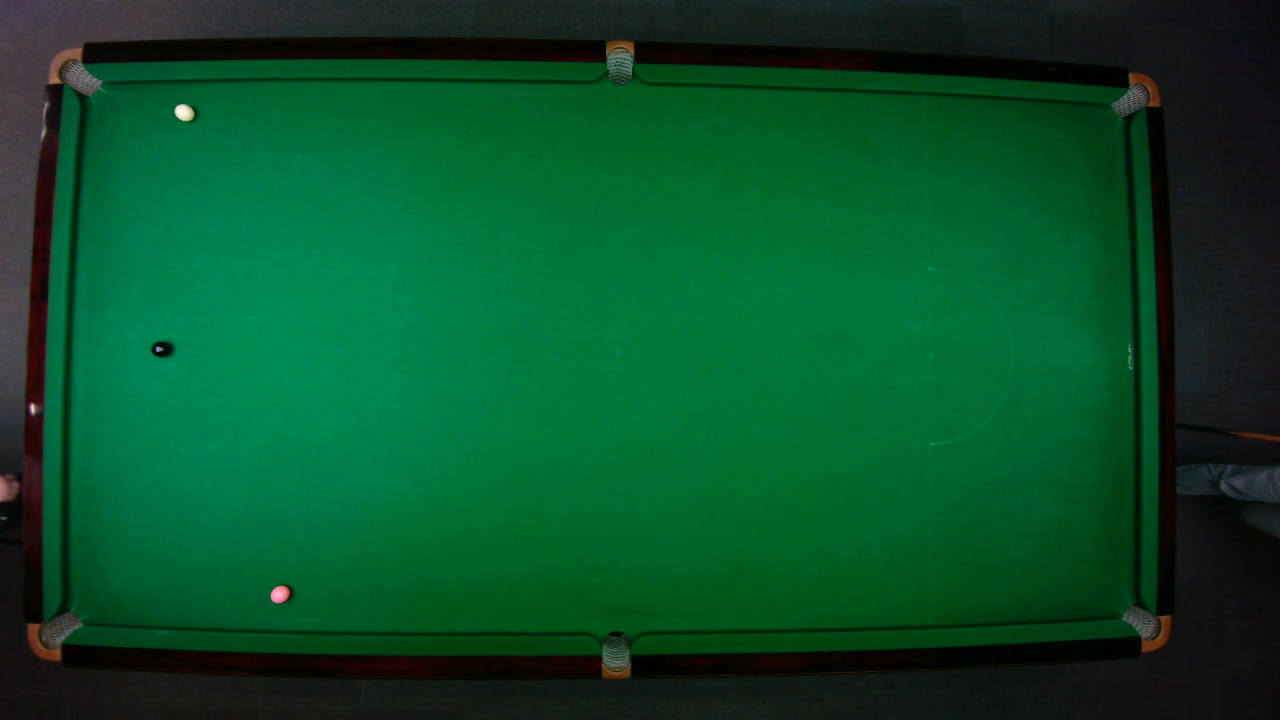bag: (25, 609, 84, 661), (46, 46, 102, 96), (1119, 603, 1172, 651), (1108, 71, 1161, 118), (601, 629, 630, 680), (605, 38, 633, 85)
black: (149, 339, 171, 357)
pink: (268, 583, 290, 604)
white: (173, 102, 195, 121)
zone: (927, 266, 1013, 444)
